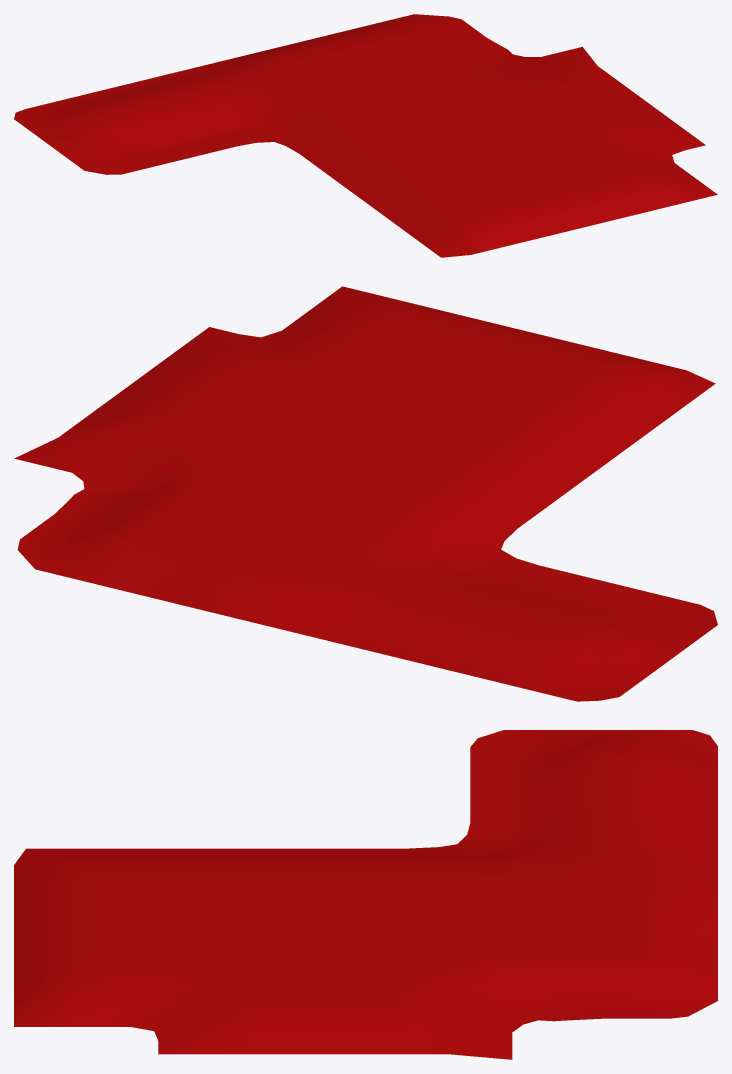
The model's file is landscape04.fbx.
3 renders of one model, top to bottom at view 1: azimuth 30°, elevation 25°; view 2: azimuth 150°, elevation 25°; view 3: azimuth 270°, elevation 25°, orthographic. The views are drawn at different scales.
Visible parts, largest first — view 1: landscape; view 2: landscape; view 3: landscape.
Boxes of the visible parts, <box> form: landscape: <box>14,14,717,257</box>; landscape: <box>14,286,717,701</box>; landscape: <box>14,730,717,1059</box>.
Bounding box in the file's own units: 57.97 × 1.31 × 52.46.
